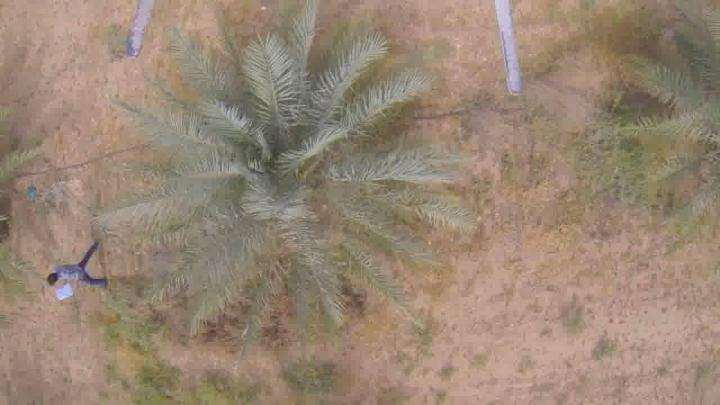Date-Palm-Crown: (160, 40, 420, 282), (676, 51, 720, 185)
